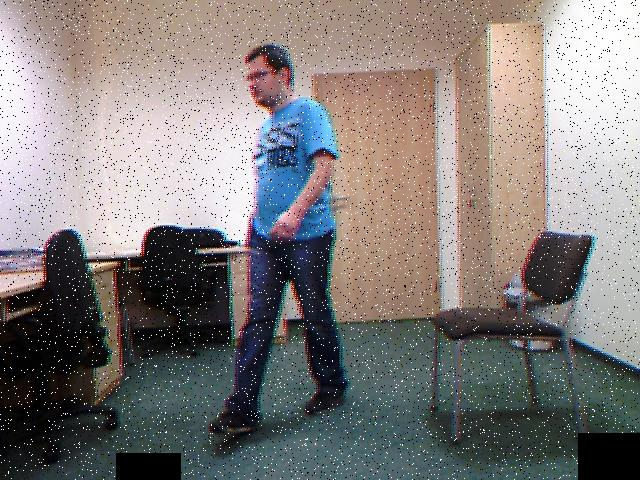walking: (209, 34, 358, 441)
